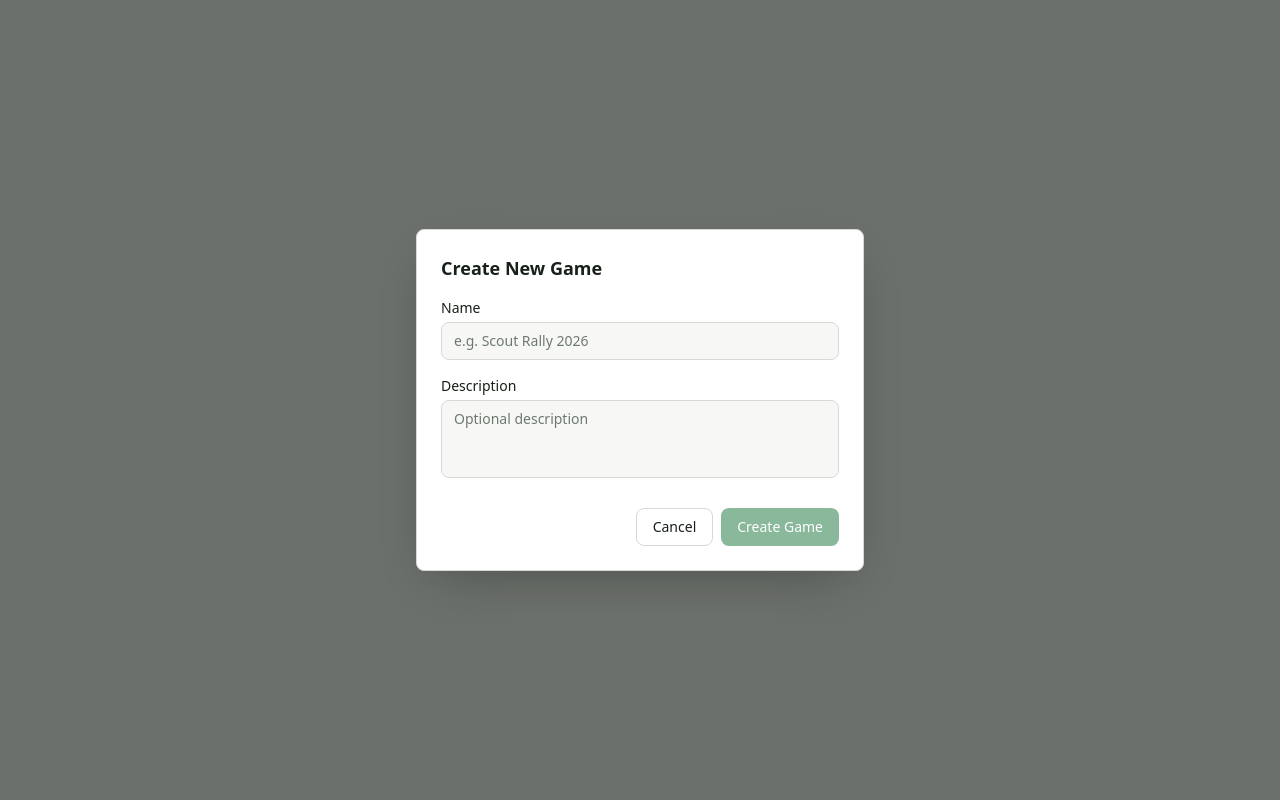
Scenario: CreateGameDialog › shows a localized message for any other rejected create and stays open
Step 1. Type "Another practice" into the field labelled "Name" → (640, 341), box [441,322,839,360]
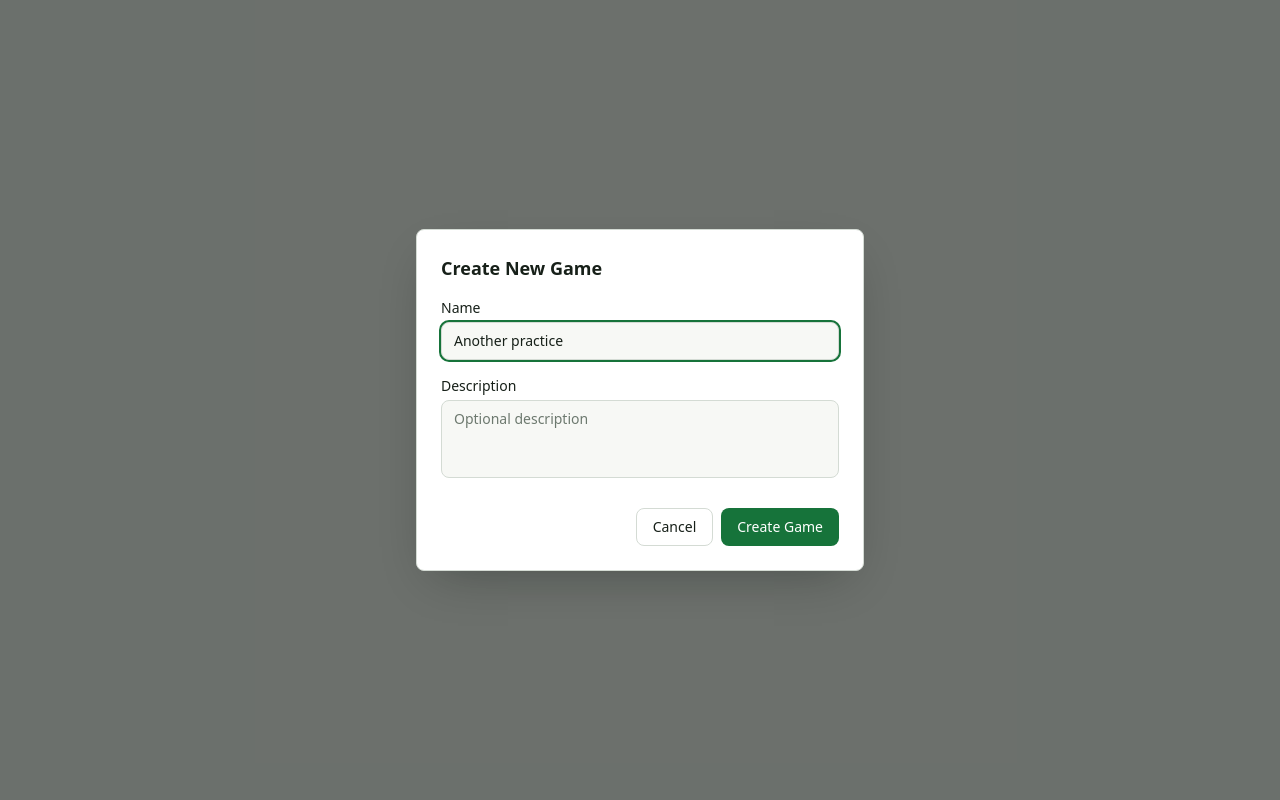
Step 2. Click the button "Create Game" → (780, 527), box [721,508,839,546]
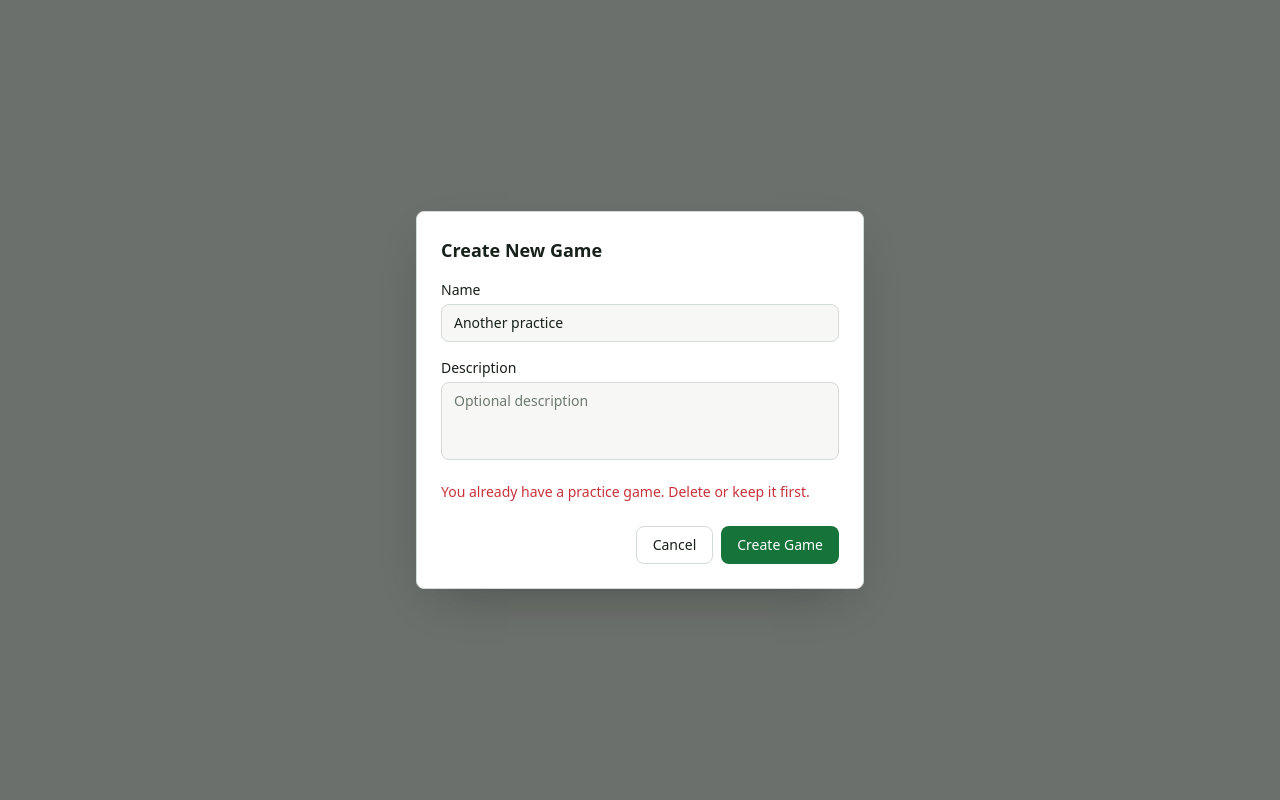
Expected: the message with test id "create-game-error" reads "You already have a practice game. Delete or keep it first.", [441,482,810,501]
